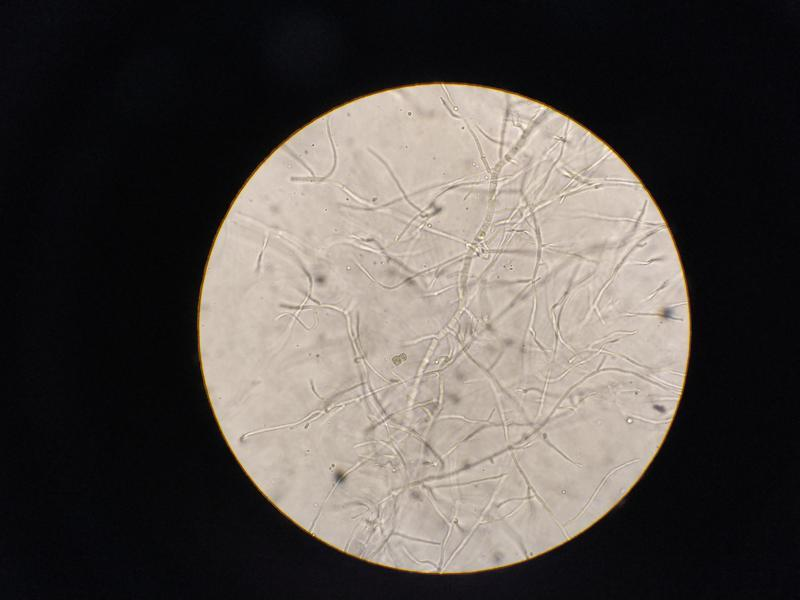fungus: (373, 174, 597, 491)
